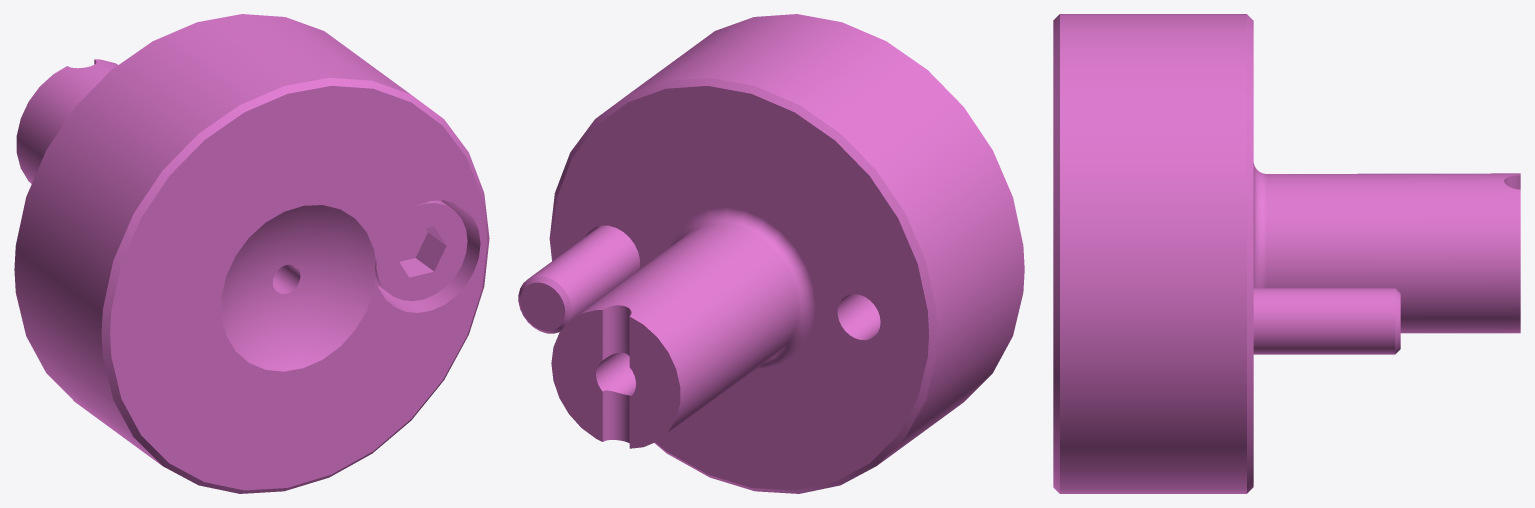
The model's file is sprue_bush.glb.
The picture shows the model from 3 angles, left to right: view 1: azimuth 30°, elevation 25°; view 2: azimuth 150°, elevation 25°; view 3: azimuth 270°, elevation 25°; orthographic projection. The views are drawn at different scales.
Visible parts, largest first — view 1: Button_Sprue Bush_053, Button_shcs_054; view 2: Button_Sprue Bush_053, Button_shcs_054; view 3: Button_Sprue Bush_053, Button_shcs_054.
Boxes of the visible parts, left/top/right/bottom form: Button_Sprue Bush_053: left=14, top=14, right=489, bottom=493; Button_shcs_054: left=375, top=200, right=467, bottom=301; Button_Sprue Bush_053: left=549, top=14, right=1024, bottom=493; Button_shcs_054: left=518, top=225, right=639, bottom=333; Button_Sprue Bush_053: left=1053, top=14, right=1520, bottom=493; Button_shcs_054: left=1253, top=288, right=1400, bottom=354.
Size of the model in its own units: 0.036 by 0.0359 by 0.035.
